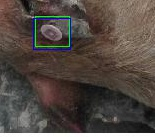text: (35, 16, 69, 46)
